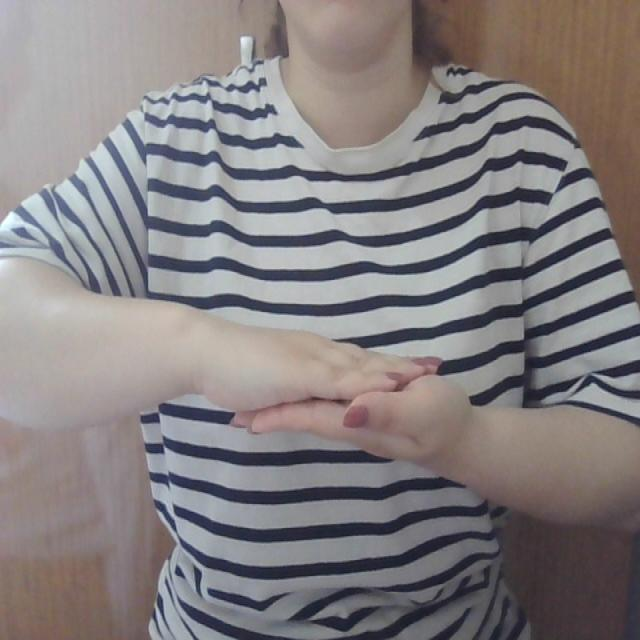Arkadas: (138, 295, 523, 484)
